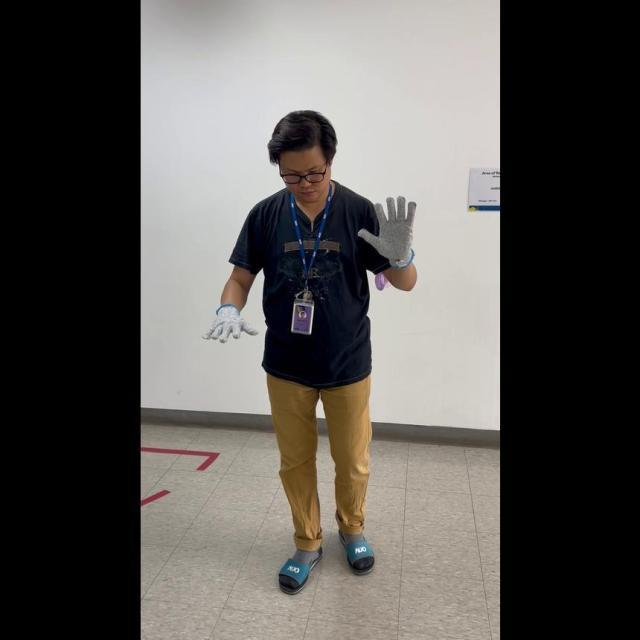gloved_hand: (356, 190, 418, 268), (200, 299, 258, 345)
